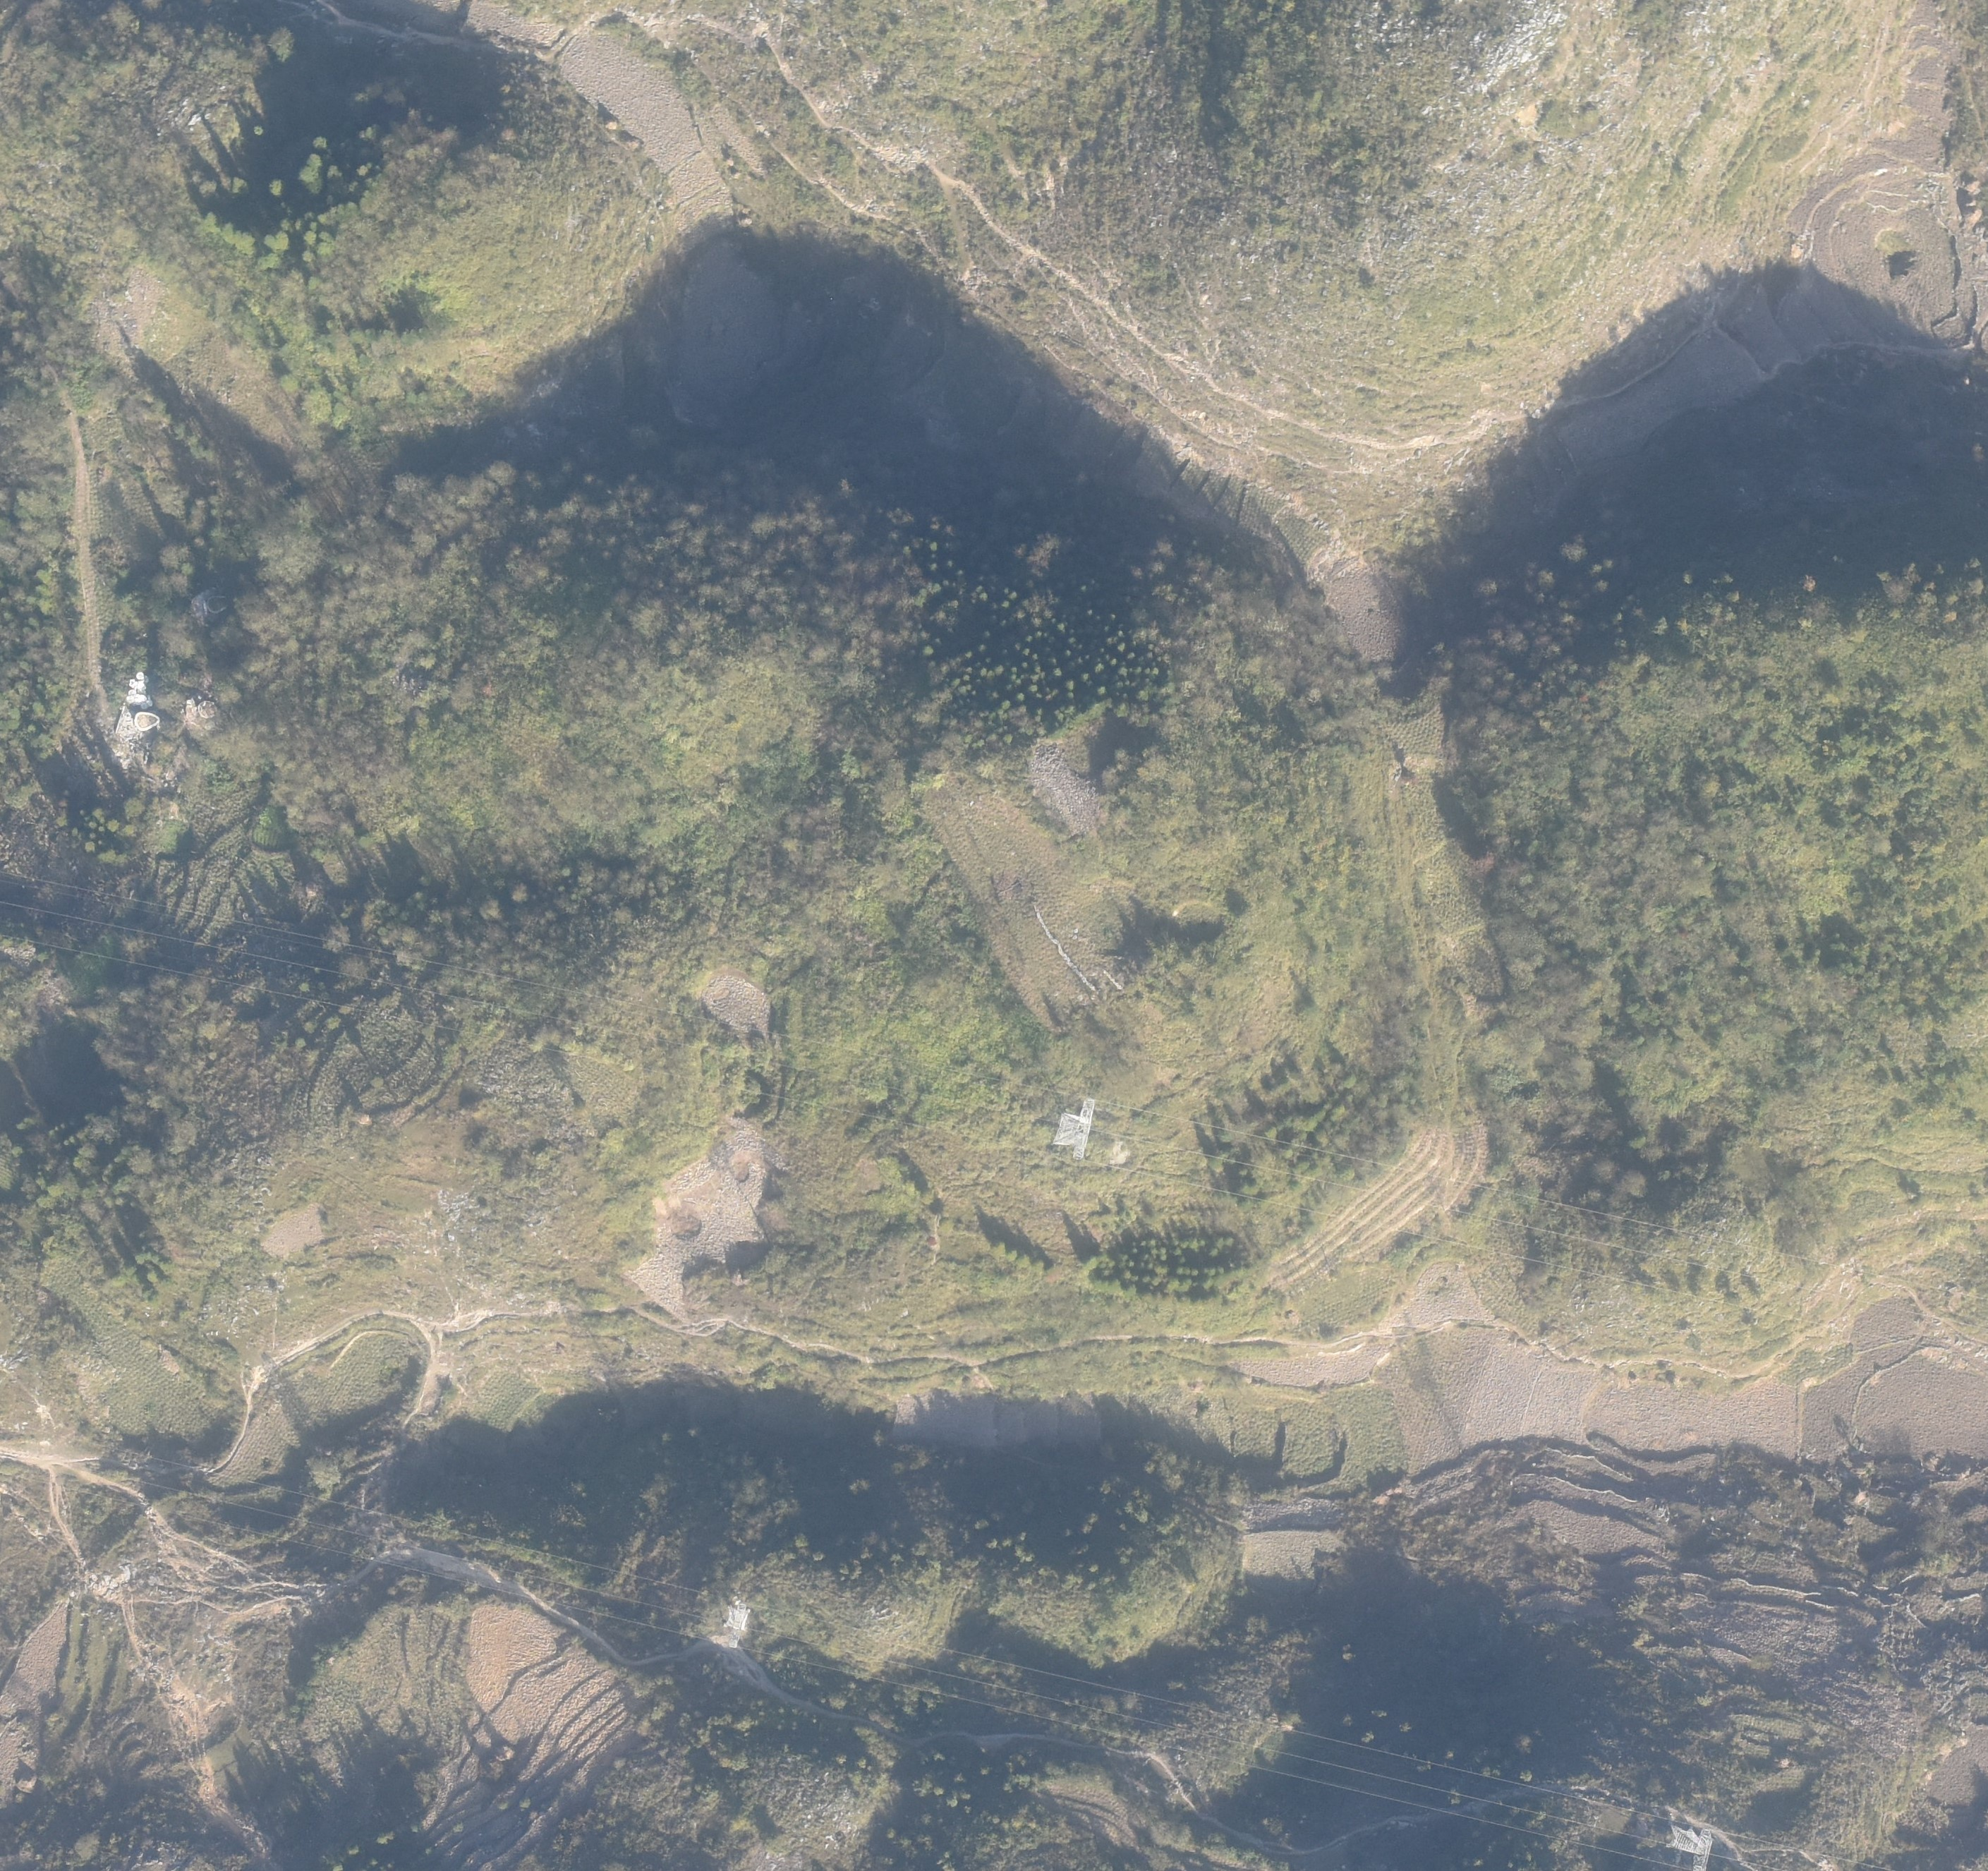cable-tower: (1651, 1812, 1718, 1867), (703, 1594, 751, 1664), (1057, 1098, 1101, 1164)
